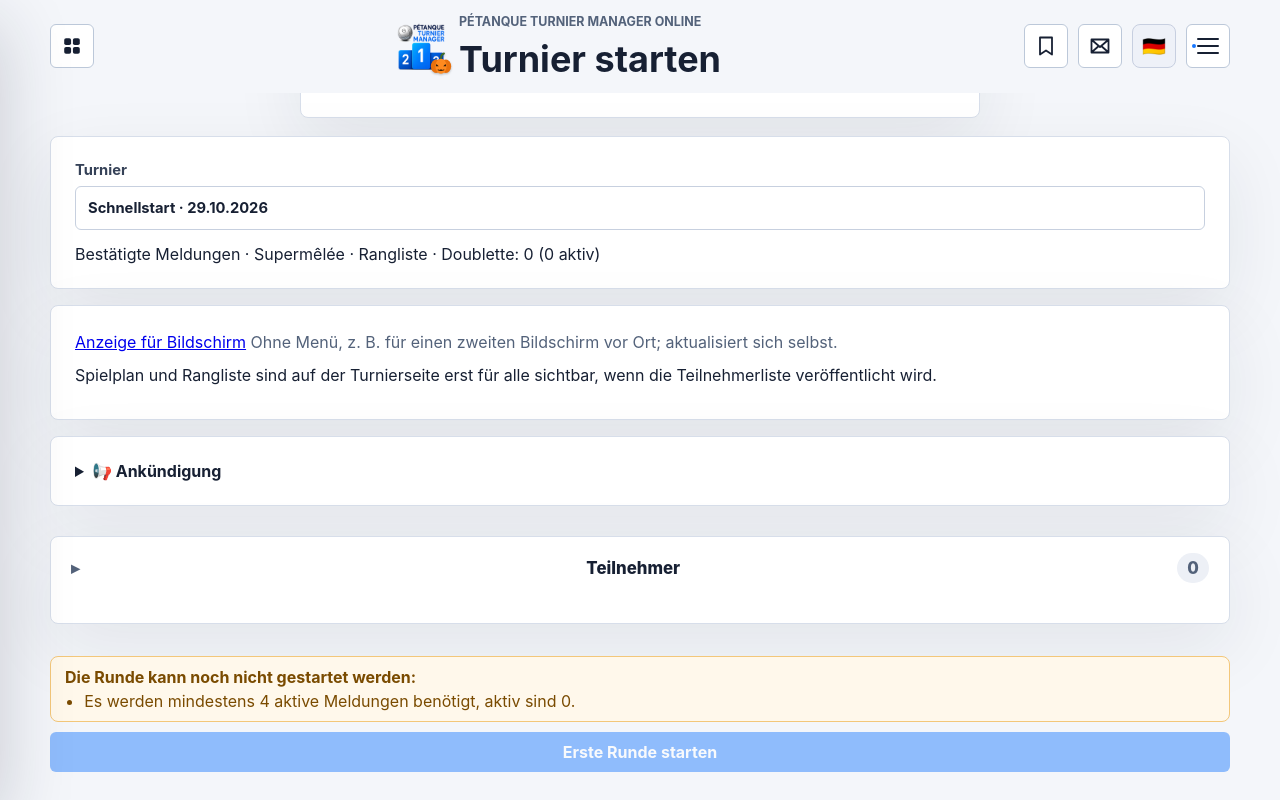
it: Eigene Spielerauswahl unter Turnier starten › findet das eigene Konto als user und übernimmt die Kontoverknüpfung
(page scrolled)
Step 1. Click the text "Teilnehmer" → {"x": 633, "y": 568}, box [586,558,680,578]
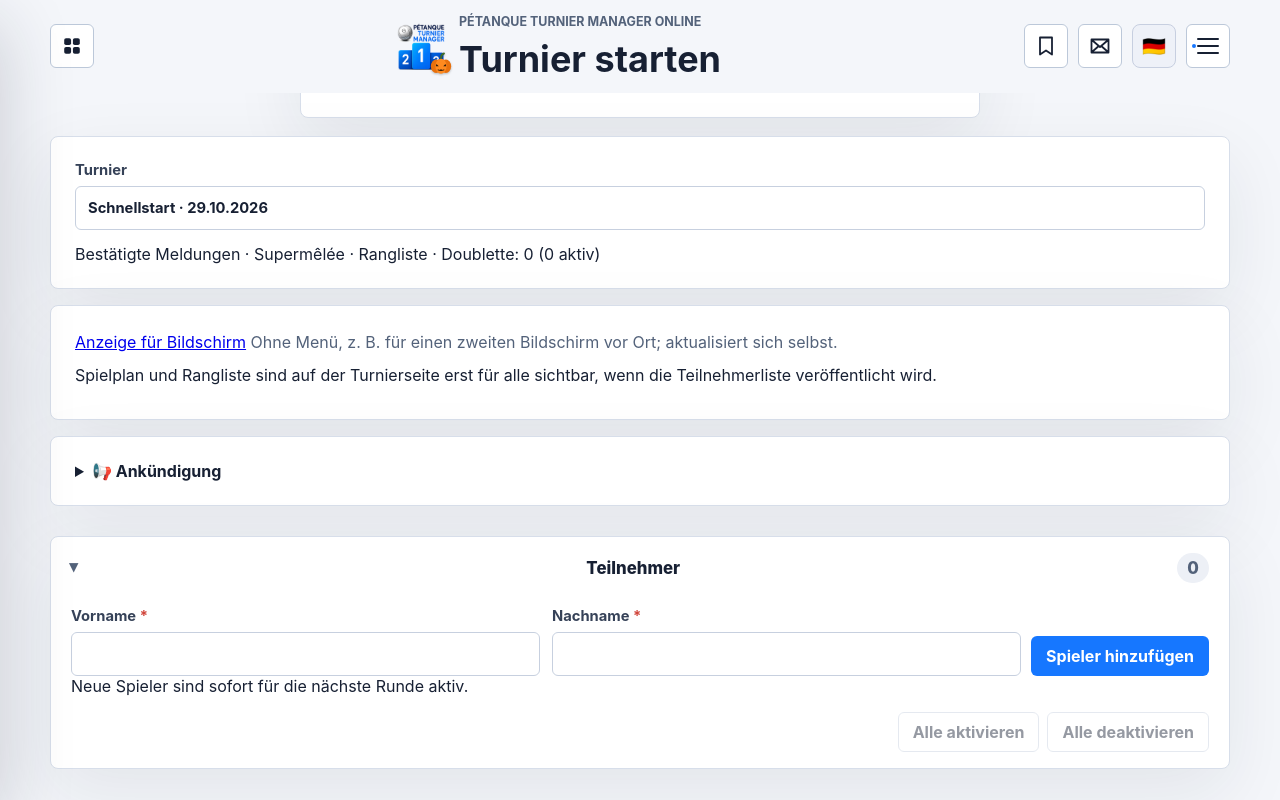
Step 2. Type "Olg" into the dropdown labelled "Vorname *" → {"x": 306, "y": 654}, box [71,632,540,676]
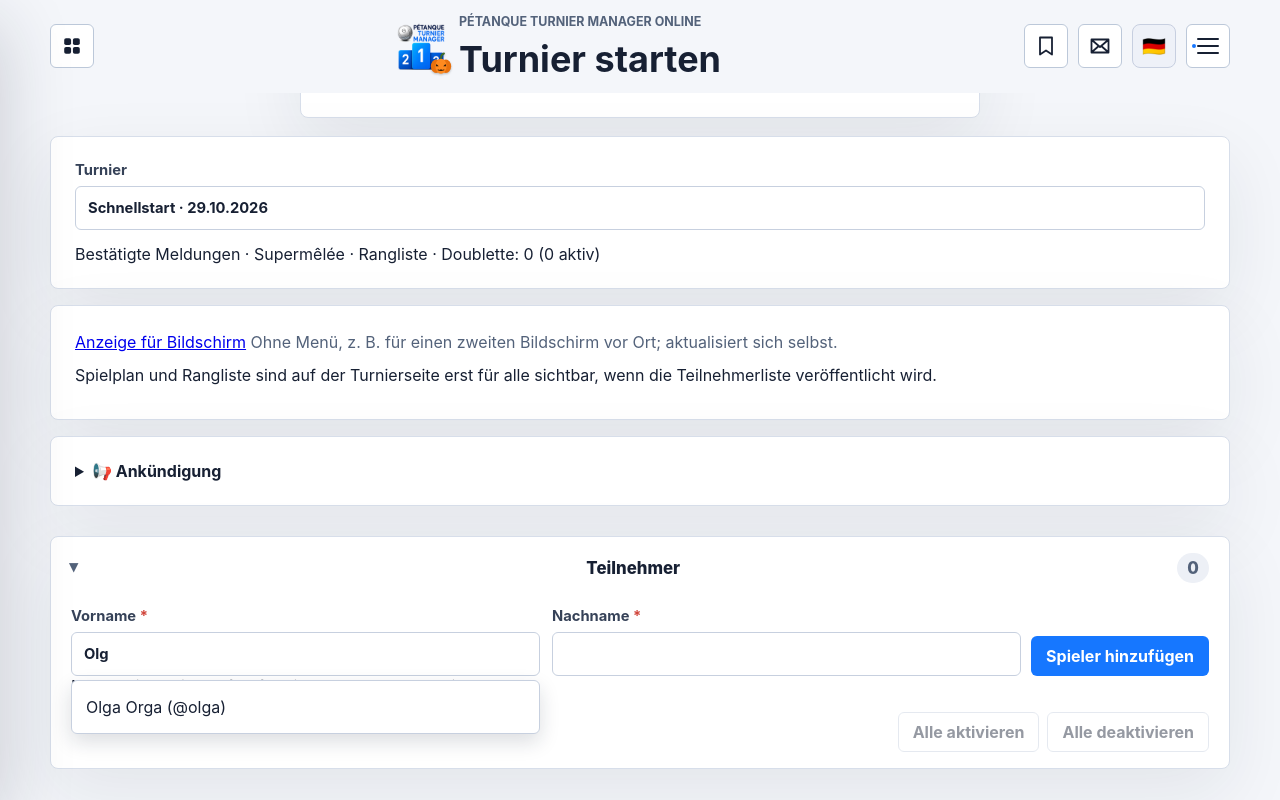
Step 3. Click the option "Olga Orga (@olga)" → {"x": 103, "y": 707}, box [76,685,535,729]
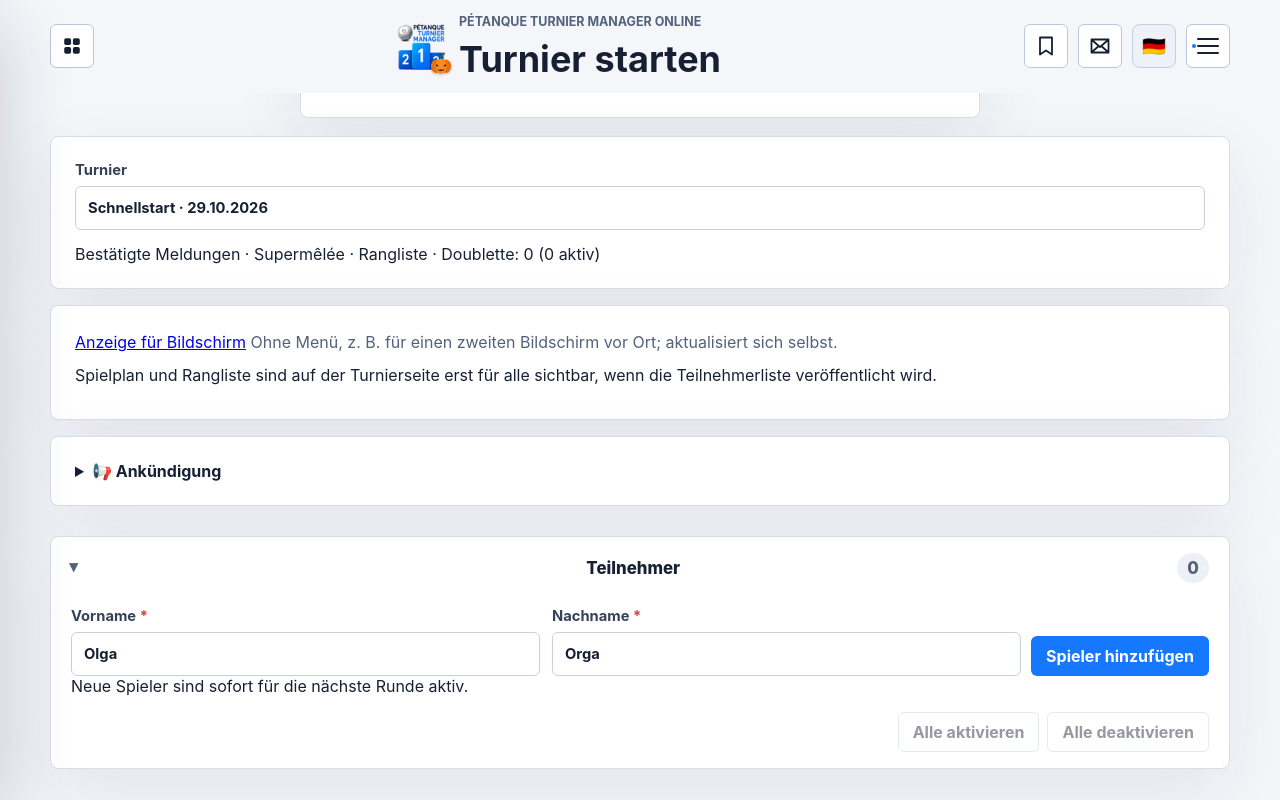
Expected: the dropdown labelled "Nachname *" holds "Orga", [552,632,1021,676]
Step 4. Click the button "Spieler hinzufügen" → {"x": 1120, "y": 656}, box [1031,636,1209,676]
(page scrolled)
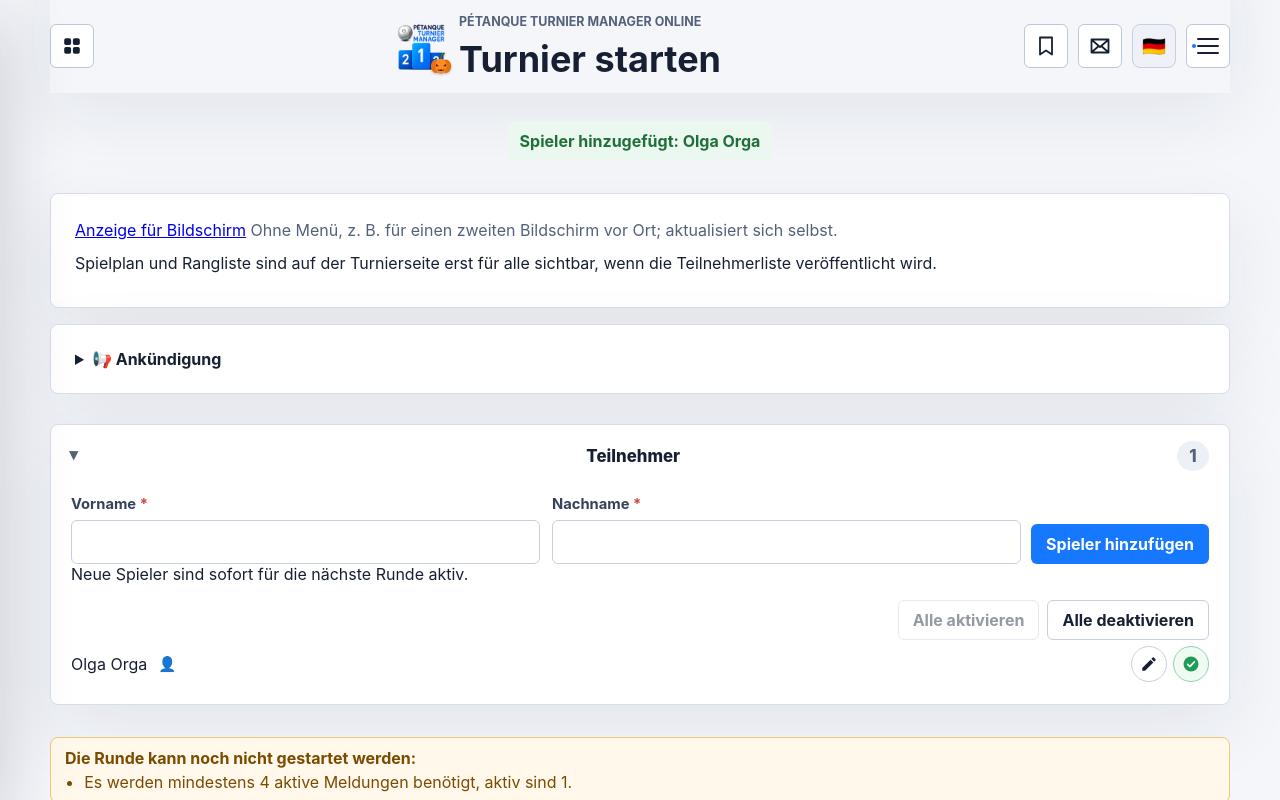
Expected: the text "Spieler hinzugefügt: Olga Orga" is shown, [508,121,772,161]
Expected: the text named "Mit Benutzerkonto verbunden" is shown, [158,655,176,673]
